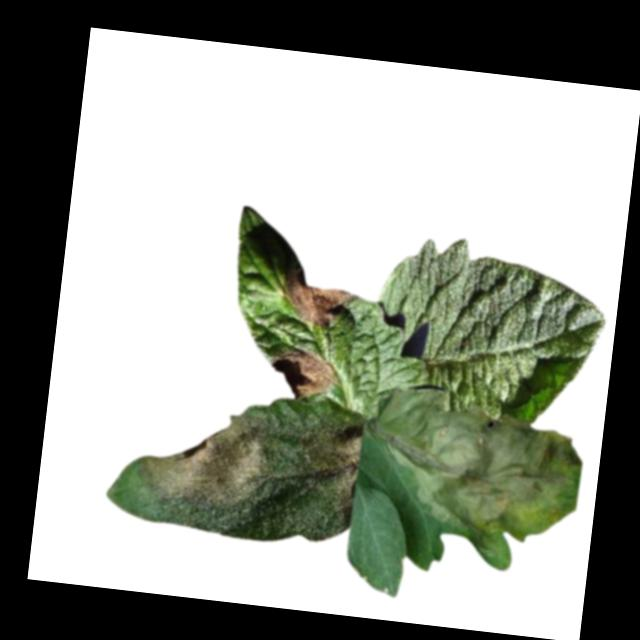Late_blight: (363, 387, 588, 577), (131, 399, 275, 538), (291, 416, 364, 534), (276, 263, 360, 331), (263, 339, 343, 404)
healthy: (367, 228, 613, 431)
